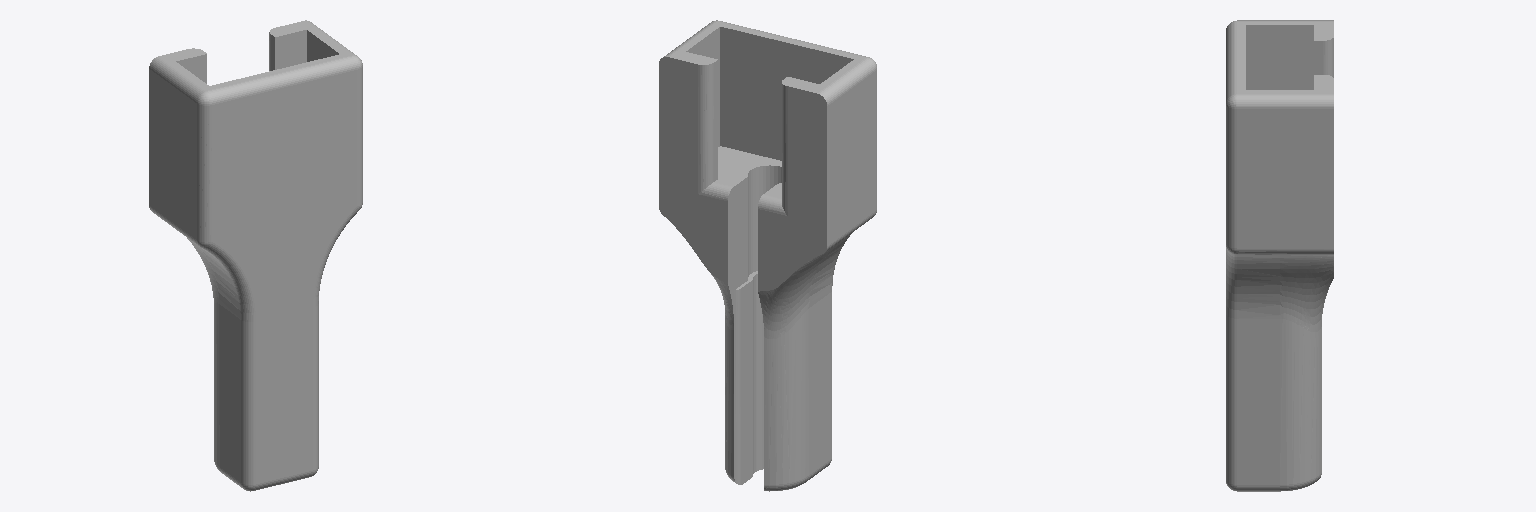
The robot description file, URDF, robot "root":
<?xml version='1.0' encoding='utf-8'?>
<robot name="root">
  <link name="link_001">
    <visual>
      <origin xyz="0 0 0" rpy="0 0 0" />
      <geometry>
        <mesh filename="d85ea401f2f305a6df11b99f1c88bde6905d21b94427cfa35847d638a9d1e4d1_scale_000.stl" scale="1.0000E+00 1.0000E+00 1.0000E+00" />
      </geometry>
      <material name="">
        <color rgba="7.50E-01 7.50E-01 7.50E-01 1" />
      </material>
    </visual>
    <collision>
      <origin xyz="0 0 0" rpy="0 0 0" />
      <geometry>
        <mesh filename="d85ea401f2f305a6df11b99f1c88bde6905d21b94427cfa35847d638a9d1e4d1_scale_000.stl" scale="1.0000E+00 1.0000E+00 1.0000E+00" />
      </geometry>
    </collision>
  </link>
</robot>

--- Facts derived from the render (not from the file) ---
Views: 3 orthographic renders of the robot side by side, from view 1: azimuth 30°, elevation 25°; view 2: azimuth 150°, elevation 25°; view 3: azimuth 270°, elevation 25°.
Robot: root — 1 links, 0 joints (none); root link link_001; default pose: all joints at 0.
Visible links, largest first — view 1: link_001; view 2: link_001; view 3: link_001.
Link boxes in pixels (<box>): link_001: <box>149,20,362,491</box>; link_001: <box>659,20,876,491</box>; link_001: <box>1226,20,1333,491</box>.
Bounding box of the posed robot: 0.0504 × 0.0281 × 0.12 m (x, y, z).
1 mesh visuals loaded from 1 distinct referenced files (1 binary STL).
